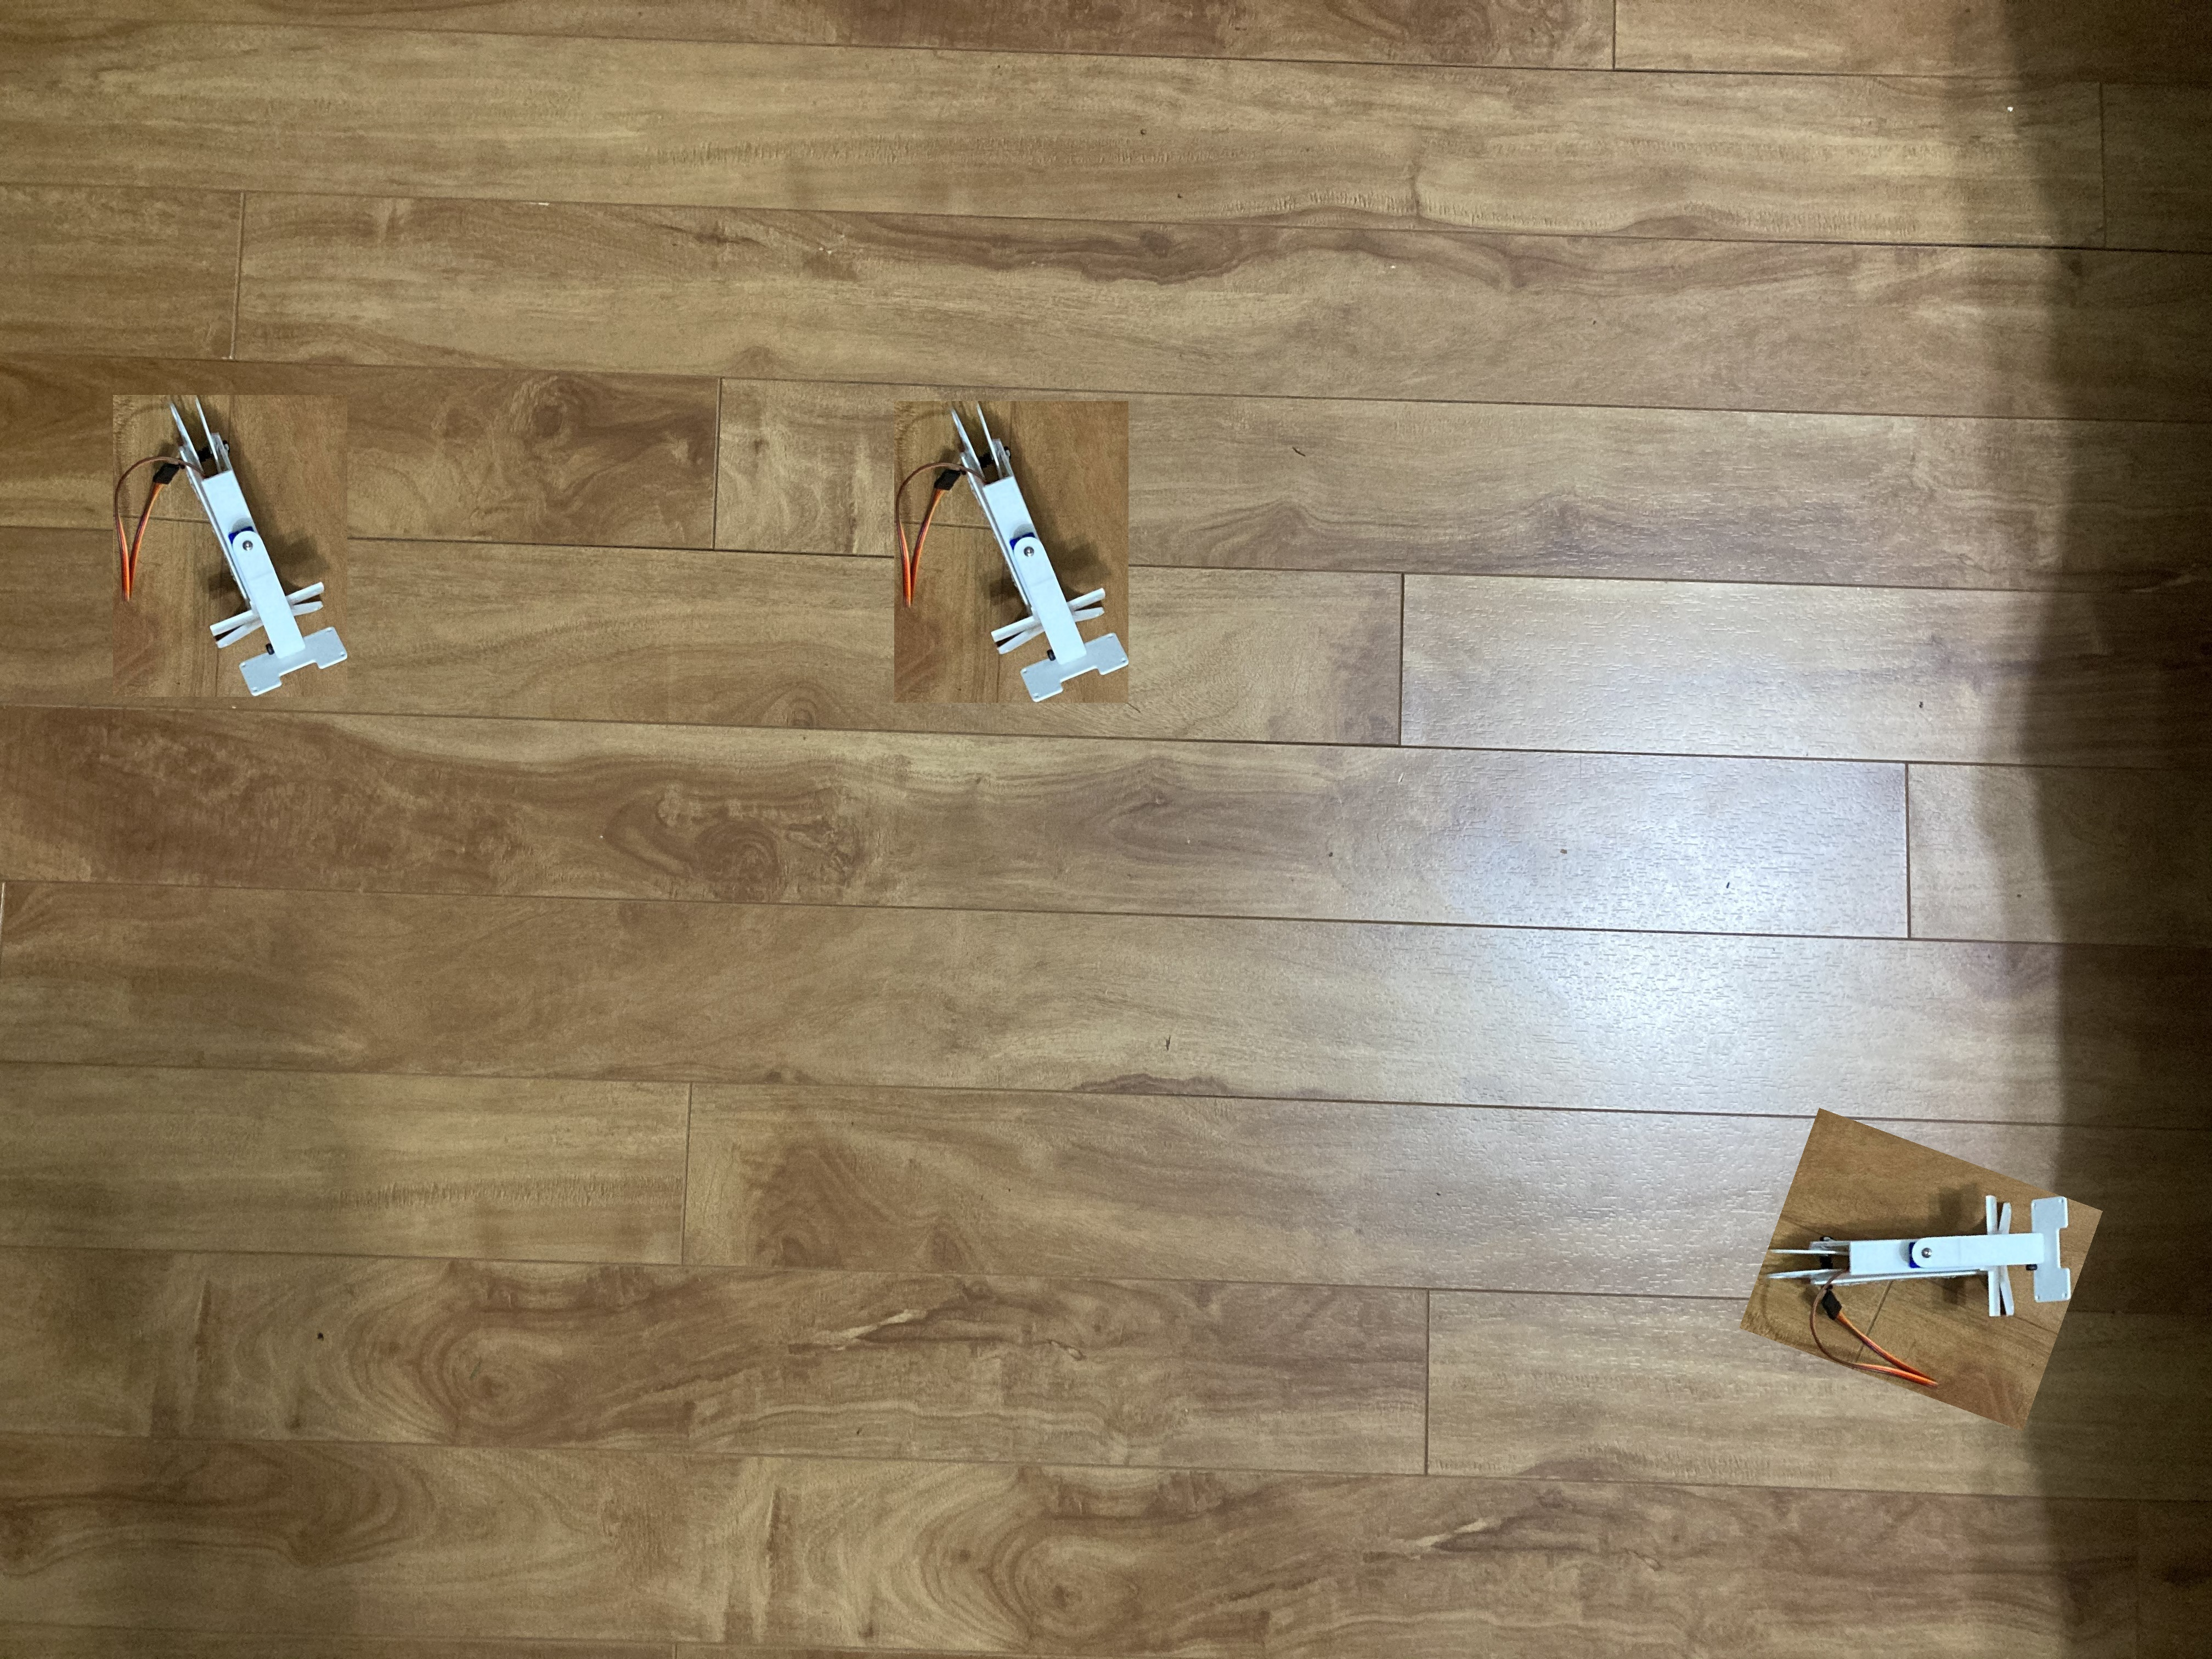robot: (115, 399, 378, 732), (887, 396, 1146, 718), (1771, 1161, 2101, 1371)
